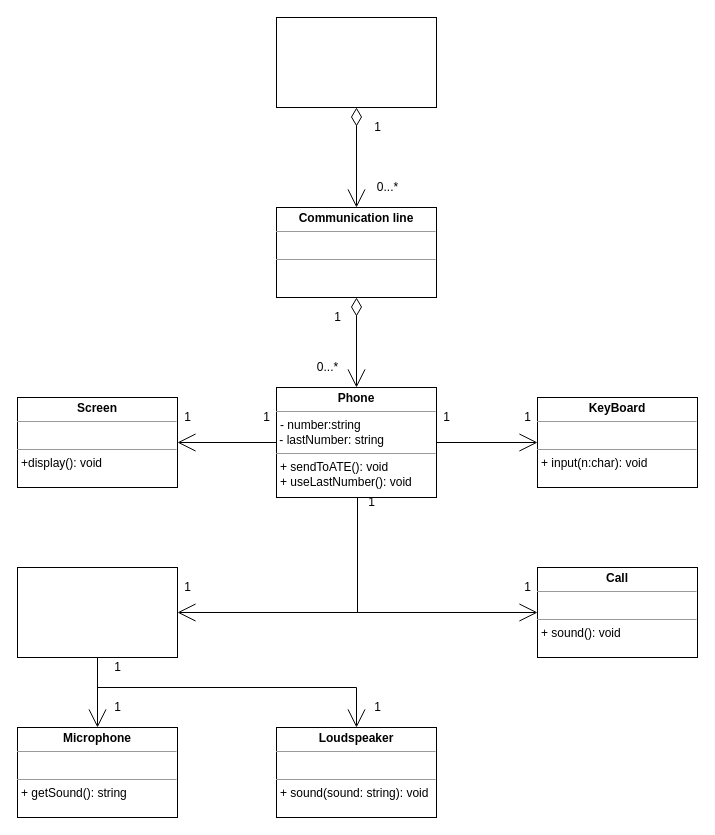
Image size: 715x835. Some labels were removed from this diagram. Here are the shapes that lost their labels. From the top down, the centre of each, then its label:
point 356,62: MINI-ATE + field: Type + method(): Type + sendToPhone(): void
point 97,612: Handset
